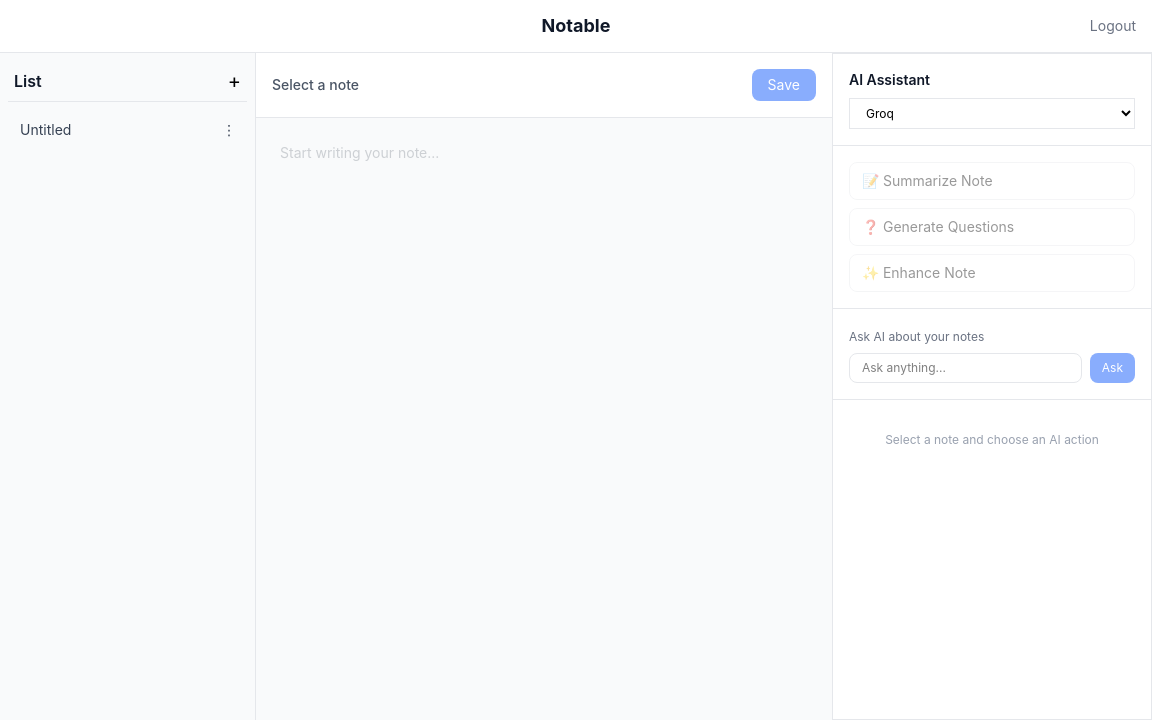
Scenario: increments Untitled draft names when existing titles are present
Click the button "+" at (234, 81), box x1=228 y1=67 x2=241 y2=95
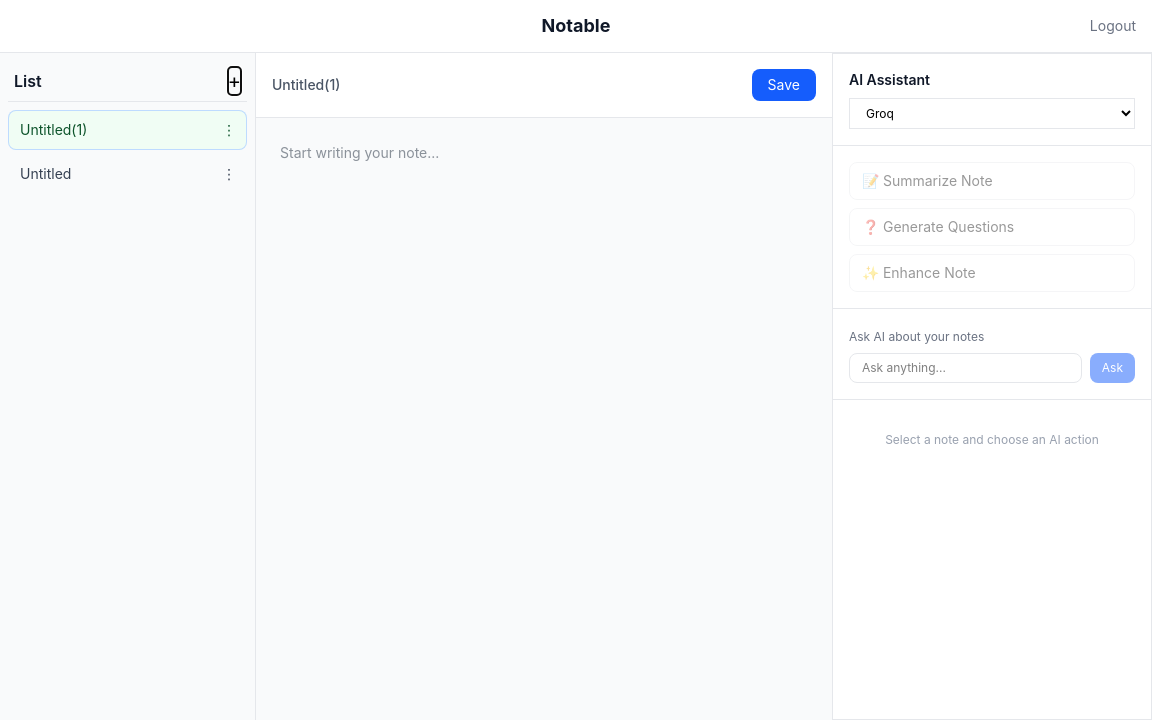
Result: the button titled "Untitled(1)" is shown at x1=8 y1=110 x2=211 y2=150
Click the button "+" at (234, 81), box x1=228 y1=67 x2=241 y2=95
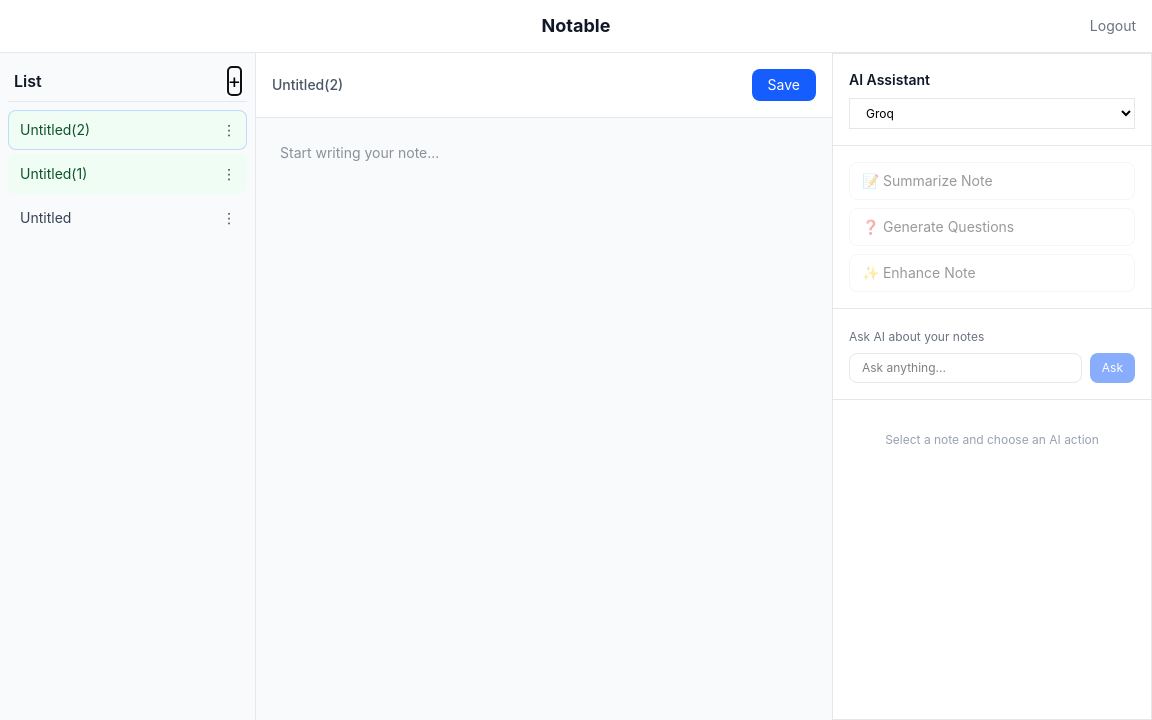
Result: the button titled "Untitled(2)" is shown at x1=8 y1=110 x2=211 y2=150
